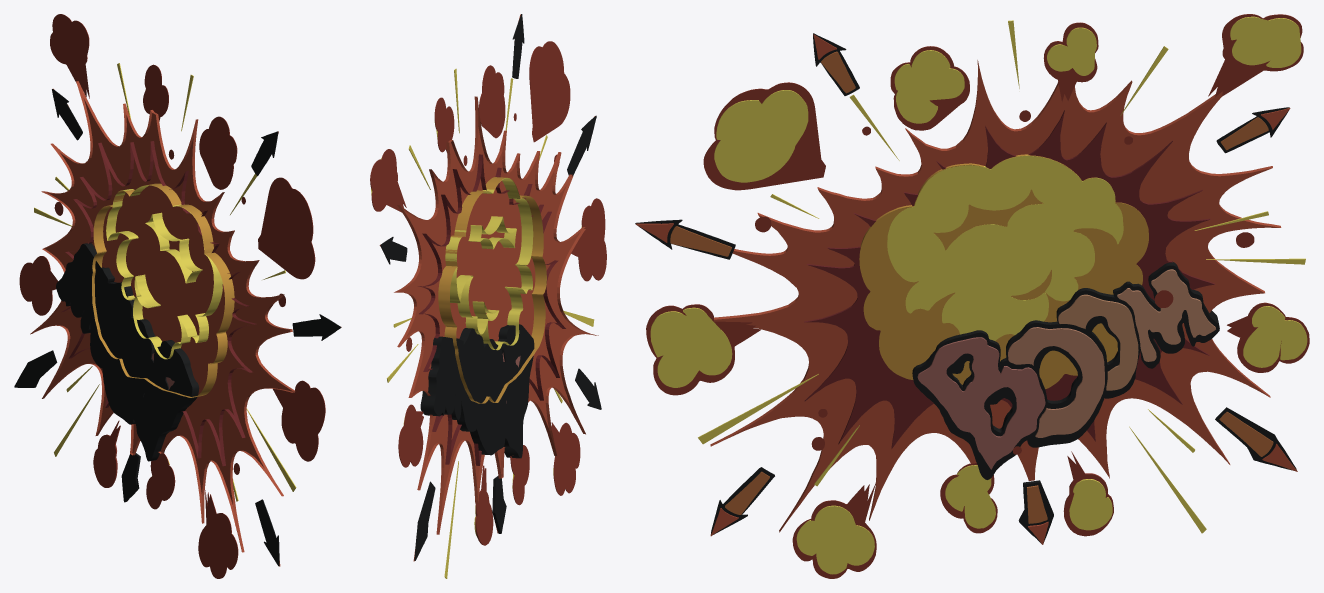
The model's file is BOOM.fbx.
3 renders of one model, left to right at view 1: azimuth 30°, elevation 25°; view 2: azimuth 150°, elevation 25°; view 3: azimuth 270°, elevation 25°, orthographic. The views are drawn at different scales.
Visible parts, largest first — view 1: polySurface19, polySurface39, polySurface60, polySurface113, polySurface57, polySurface47, Red_2, polySurface104, polySurface55, polySurface102, polySurface119, polySurface115 (+11 smaller); view 2: polySurface19, polySurface60, polySurface57, Red_2, polySurface39, polySurface113, polySurface47, polySurface55, polySurface104, polySurface102, polySurface119, polySurface53 (+11 smaller); view 3: polySurface19, polySurface60, polySurface57, Red_2, polySurface38, polySurface114, polySurface105, polySurface45, polySurface113, polySurface56, polySurface103, polySurface116 (+20 smaller).
Boxes of the visible parts, <box> form: polySurface19: <box>30,81,295,552</box>; polySurface39: <box>128,340,199,461</box>; polySurface60: <box>106,185,222,359</box>; polySurface113: <box>258,177,315,279</box>; polySurface57: <box>92,183,234,397</box>; polySurface47: <box>102,314,155,424</box>; Red_2: <box>61,141,256,466</box>; polySurface104: <box>273,380,325,461</box>; polySurface55: <box>56,243,114,333</box>; polySurface102: <box>198,490,238,578</box>; polySurface119: <box>50,14,89,98</box>; polySurface115: <box>199,116,237,189</box>; polySurface19: <box>394,96,598,534</box>; polySurface60: <box>445,178,533,350</box>; polySurface57: <box>438,177,546,403</box>; Red_2: <box>418,154,565,465</box>; polySurface39: <box>494,324,534,458</box>; polySurface113: <box>529,41,570,142</box>; polySurface47: <box>470,339,504,455</box>; polySurface55: <box>420,336,463,419</box>; polySurface104: <box>571,198,606,281</box>; polySurface102: <box>551,422,580,495</box>; polySurface119: <box>370,149,406,212</box>; polySurface53: <box>457,328,483,431</box>; polySurface19: <box>710,60,1281,532</box>; polySurface60: <box>887,155,1123,340</box>; polySurface57: <box>859,154,1148,388</box>; Red_2: <box>804,110,1215,448</box>; polySurface38: <box>917,337,1045,469</box>; polySurface114: <box>714,90,808,182</box>; polySurface105: <box>650,307,732,387</box>; polySurface45: <box>1008,327,1104,437</box>; polySurface113: <box>703,82,825,190</box>; polySurface56: <box>1117,269,1215,361</box>; polySurface103: <box>796,505,874,574</box>; polySurface116: <box>894,50,964,123</box>.
Size of the model in its own units: 5.94 by 30.72 by 32.03.
